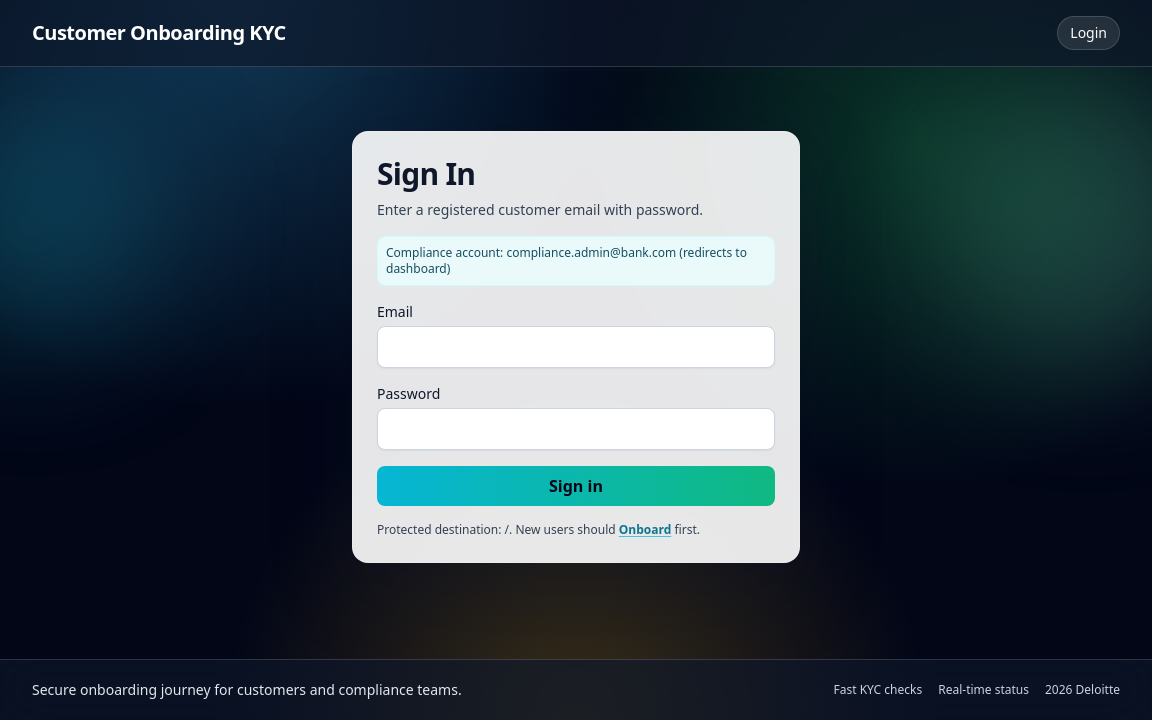
Test: LoginPage › logs in with valid email and fixed password
The width and height of the screenshot is (1152, 720).
Type "customer@example.com" into the field labelled "Email".
click(576, 347); type("customer@example.com")  # box [377,326,775,368]
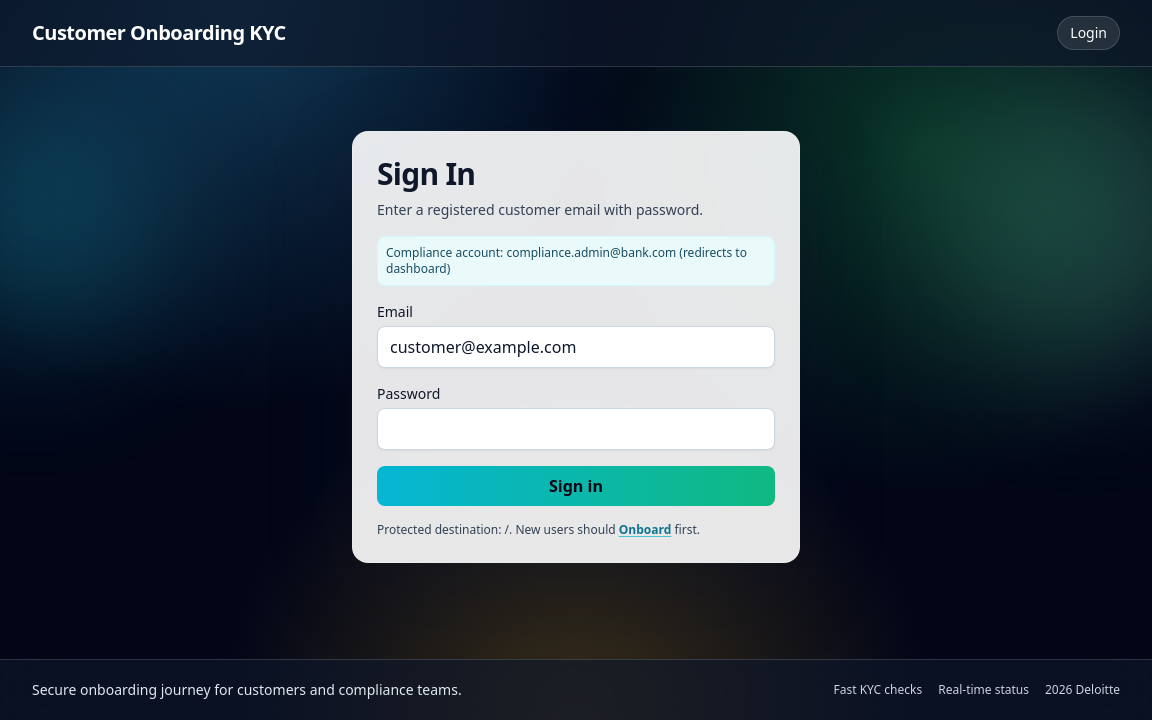
Type "Welcome@123" into the password field labelled "Password".
click(576, 429); type("Welcome@123")  # box [377,408,775,450]
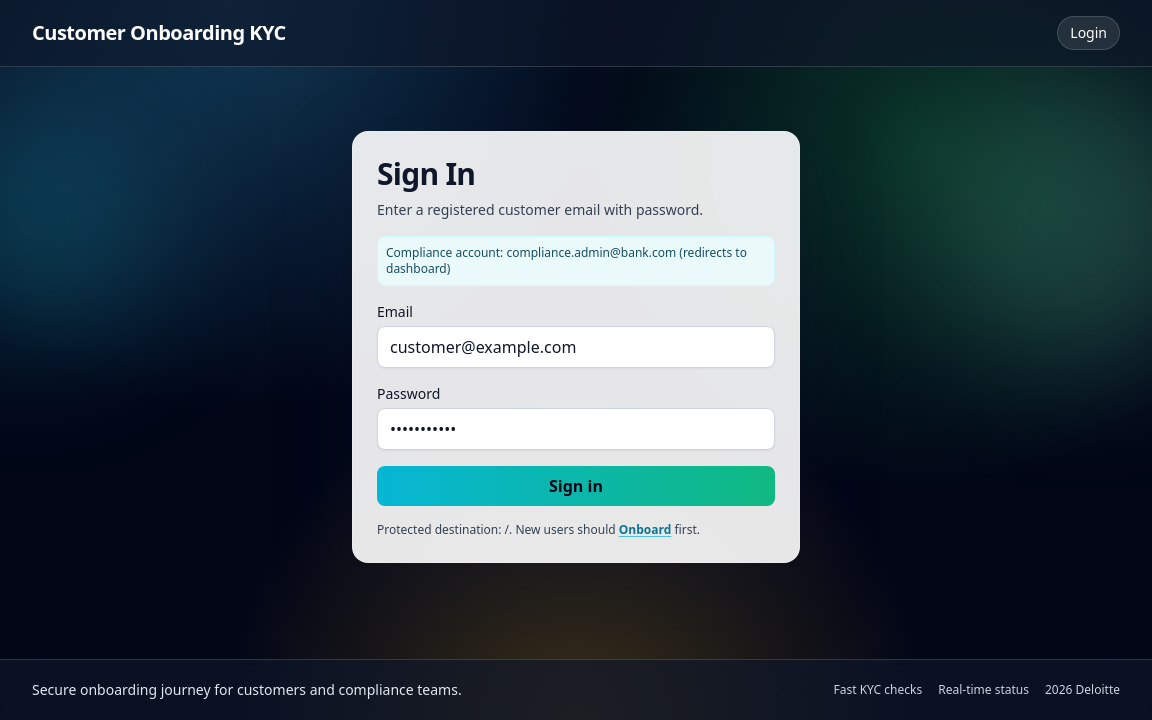
Click the button "Sign in".
click(576, 486)  # box [377,466,775,506]
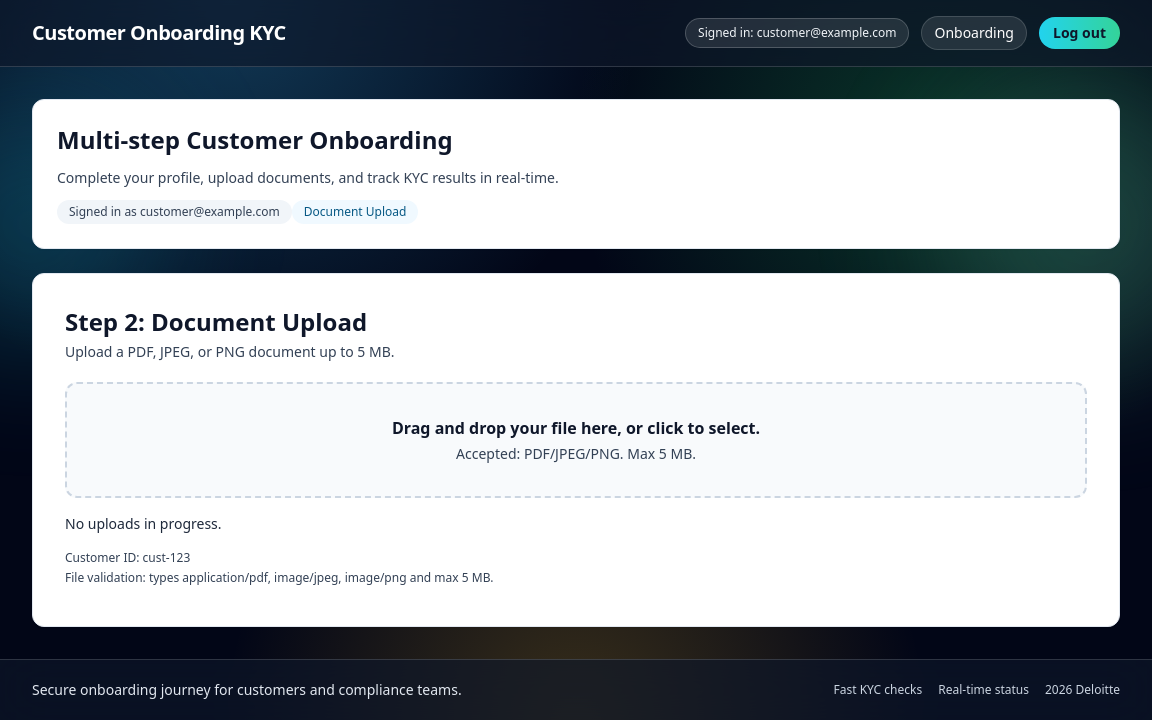
Expected: the heading "Step 2: Document Upload" is shown, [65,305,367,338]
